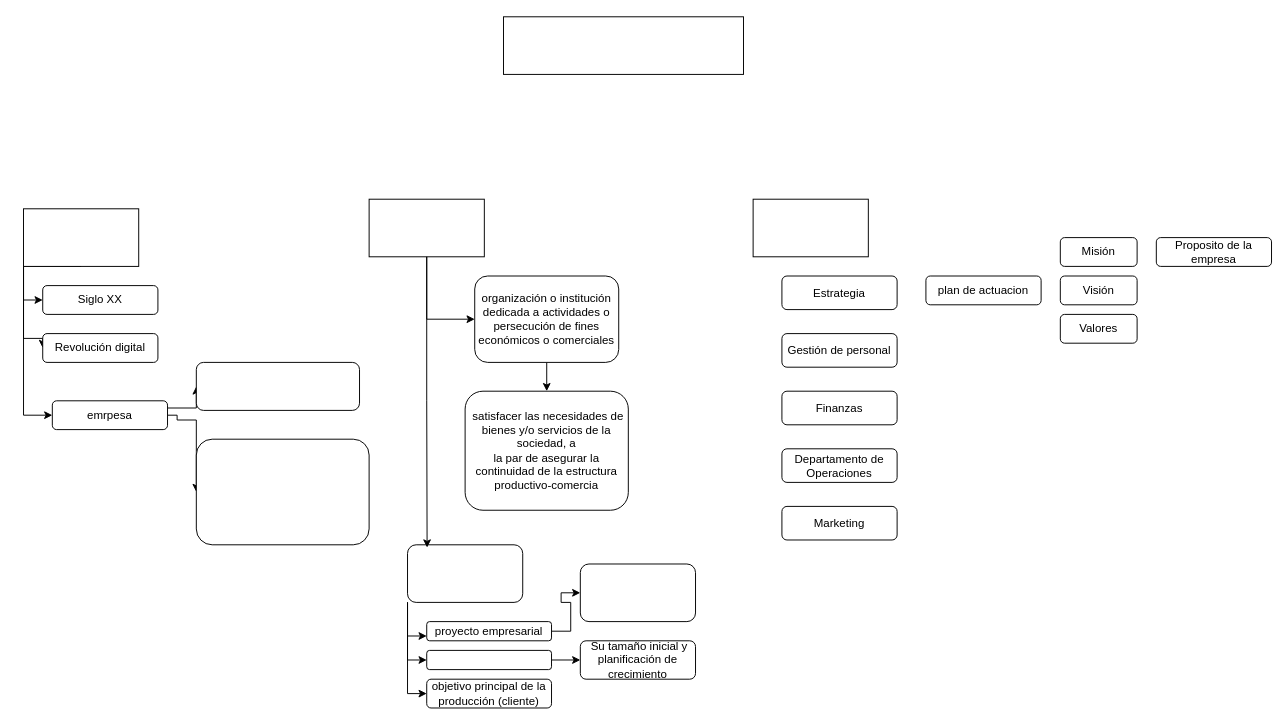
The diagram is 1288 pixels wide and 725 high, and some of its shapes have lost their labels. The shapes that lost their labels are listed below. From the top down, each one's centre as x and y in pixels, then its label:
[623,45]: Unidad 1. Identificación de los Sistemas ERP/CRM
[81,237]: Introducción
[426,227]: ¿Qué es una empresa?
[810,227]: Componentes básicos de la gestión empresarial
[277,385]: componentes(Departamentos)
[282,491]: funcionamiento(la gestion empresarial y intrerelacion de los departamentos)
[465,573]: Elementos para su creación y desarrollo:
[637,592]: planificación de la evolución del mismo a medio y largo plazo
[489,659]: tamaño de la empresa
